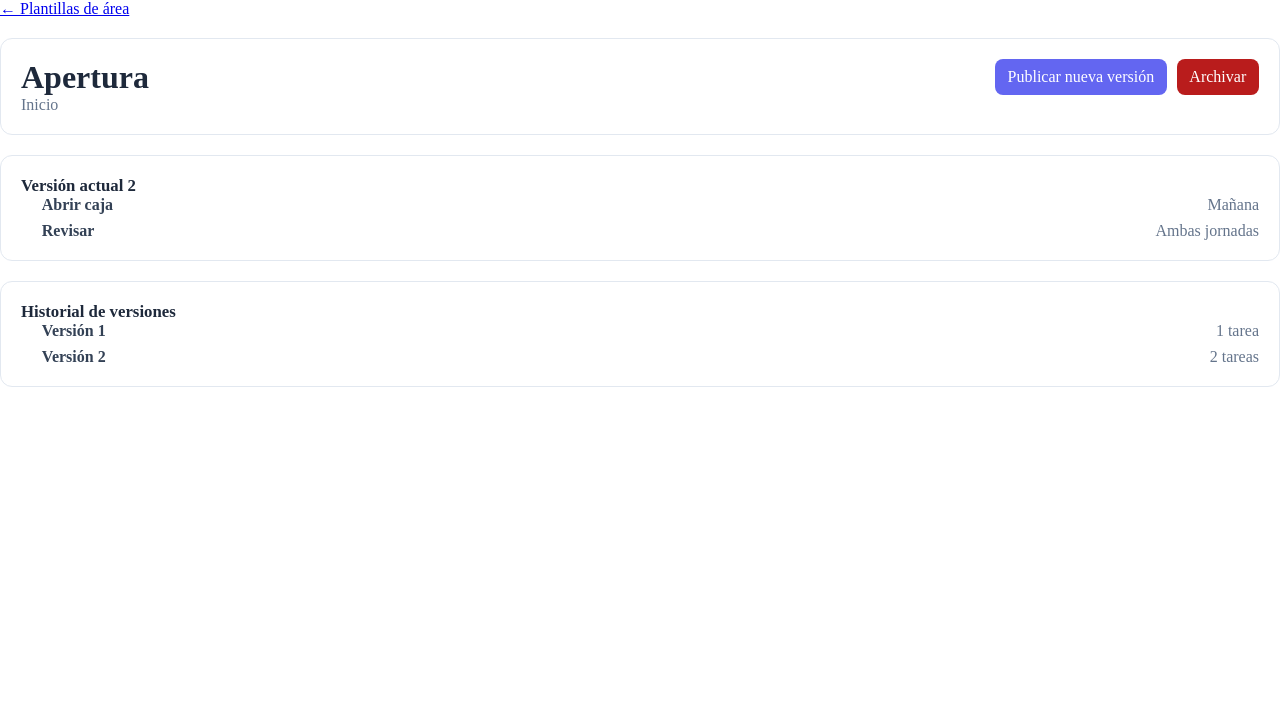
PlantillaAreaDetallePage › muestra el título de publicación para la forma de detalle recibida
Click the button "Publicar nueva versión". click: (1081, 77)
box: [995, 59, 1167, 95]
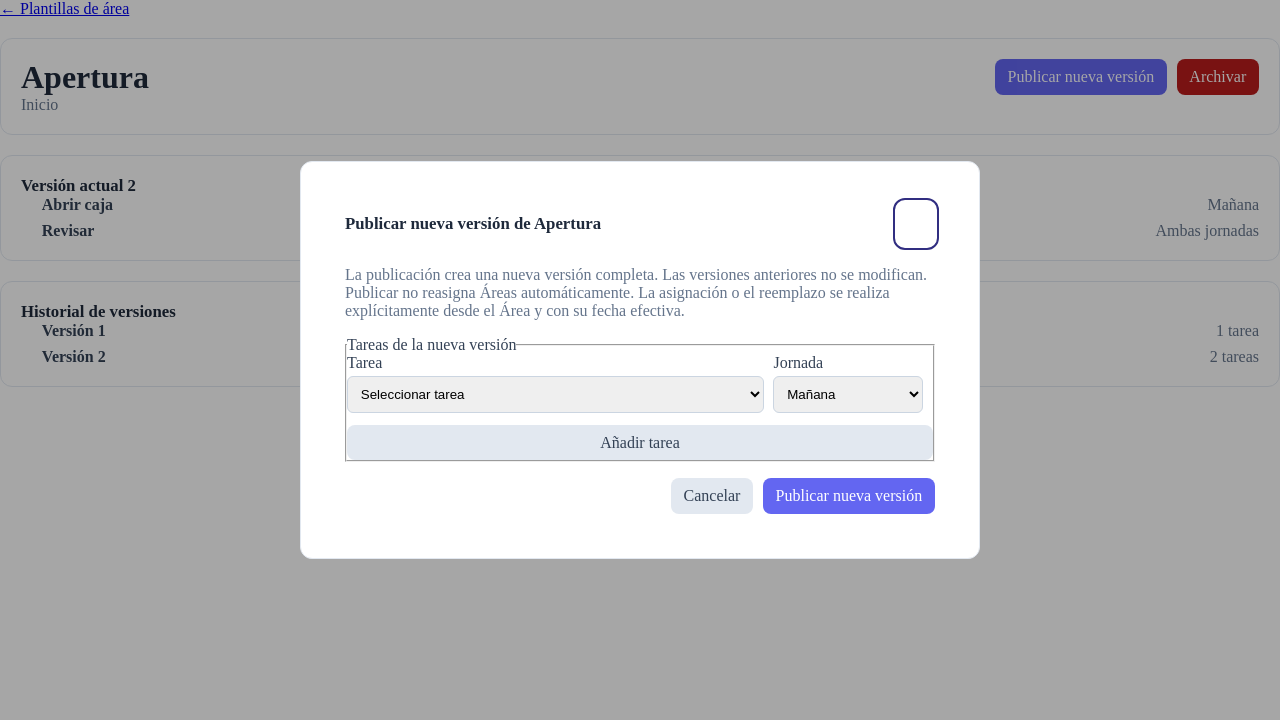
Expected: the dialog "Publicar nueva versión de Apertura" is shown, [300, 161, 980, 559]
